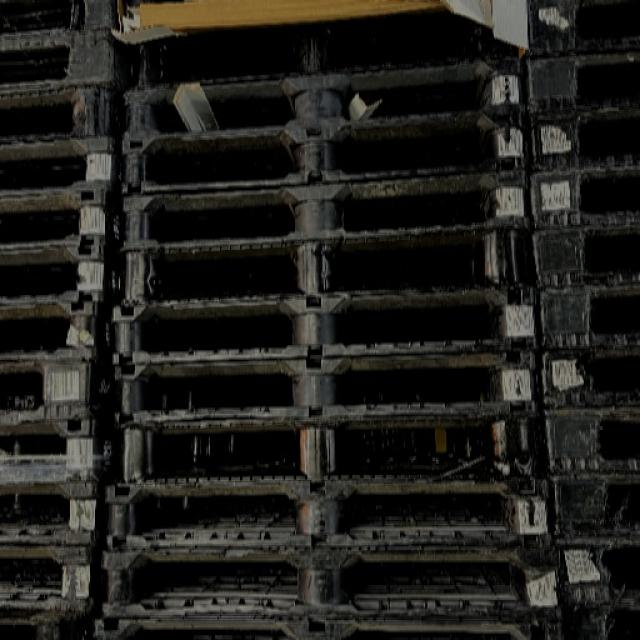igps: (114, 99, 537, 204), (114, 154, 539, 258), (113, 213, 546, 314), (104, 276, 544, 373), (94, 536, 568, 626), (114, 0, 529, 100), (107, 340, 542, 434), (112, 402, 545, 494), (118, 49, 536, 144), (96, 475, 558, 559), (85, 610, 566, 640), (0, 75, 139, 153), (0, 178, 132, 260), (0, 126, 136, 205), (0, 236, 135, 312), (0, 410, 128, 490), (0, 19, 125, 100), (520, 42, 640, 123), (0, 535, 109, 620), (0, 294, 125, 368), (0, 476, 118, 554), (528, 276, 640, 356), (522, 164, 640, 237), (534, 400, 640, 481), (525, 220, 640, 294), (511, 0, 640, 62), (545, 532, 640, 616), (523, 110, 640, 177), (542, 466, 640, 544), (535, 344, 640, 416), (0, 0, 123, 45)
